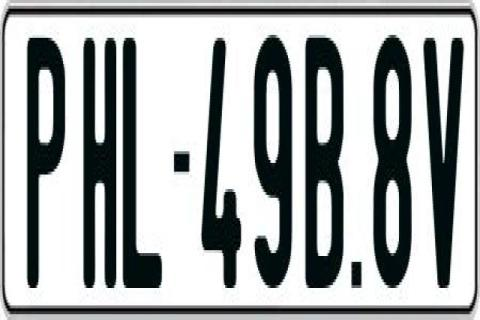0: (251, 26, 294, 294), (199, 32, 240, 282), (372, 32, 410, 285)
B: (305, 32, 345, 296)
H: (81, 38, 119, 300)
L: (120, 32, 164, 288)
P: (25, 29, 62, 279)
V: (422, 38, 465, 291)
